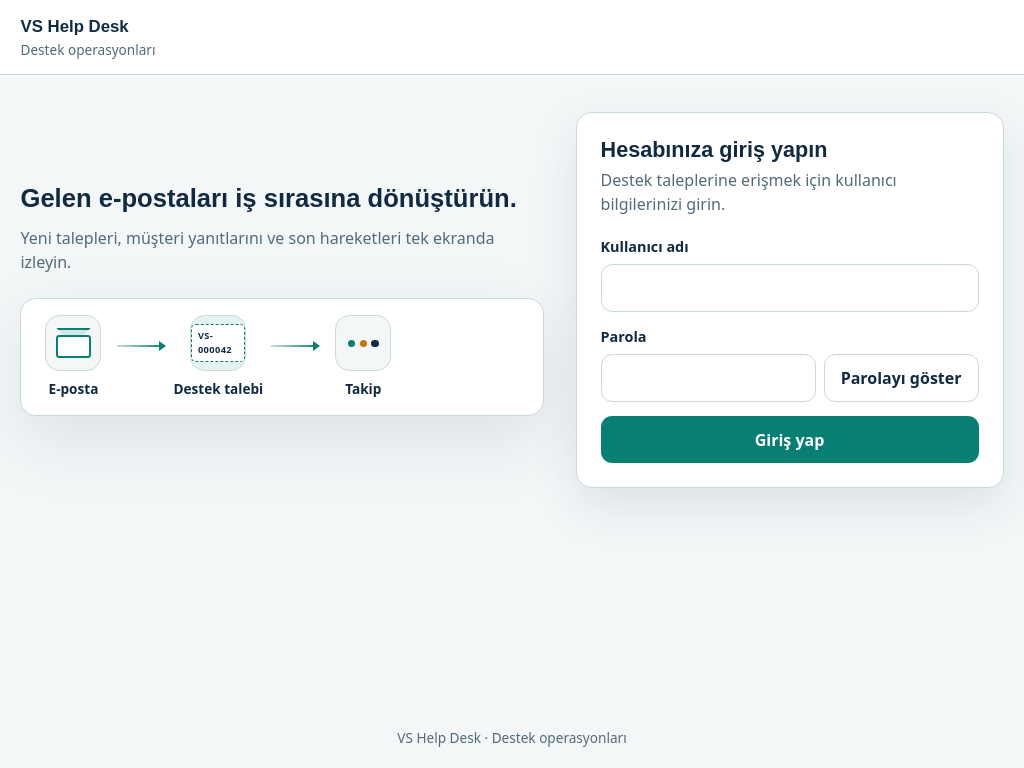
Test: LoginPage › keeps invalid credentials on login and focuses password
In the field labelled "Kullanıcı adı": [790, 288] box [600, 264, 978, 312], type "support"
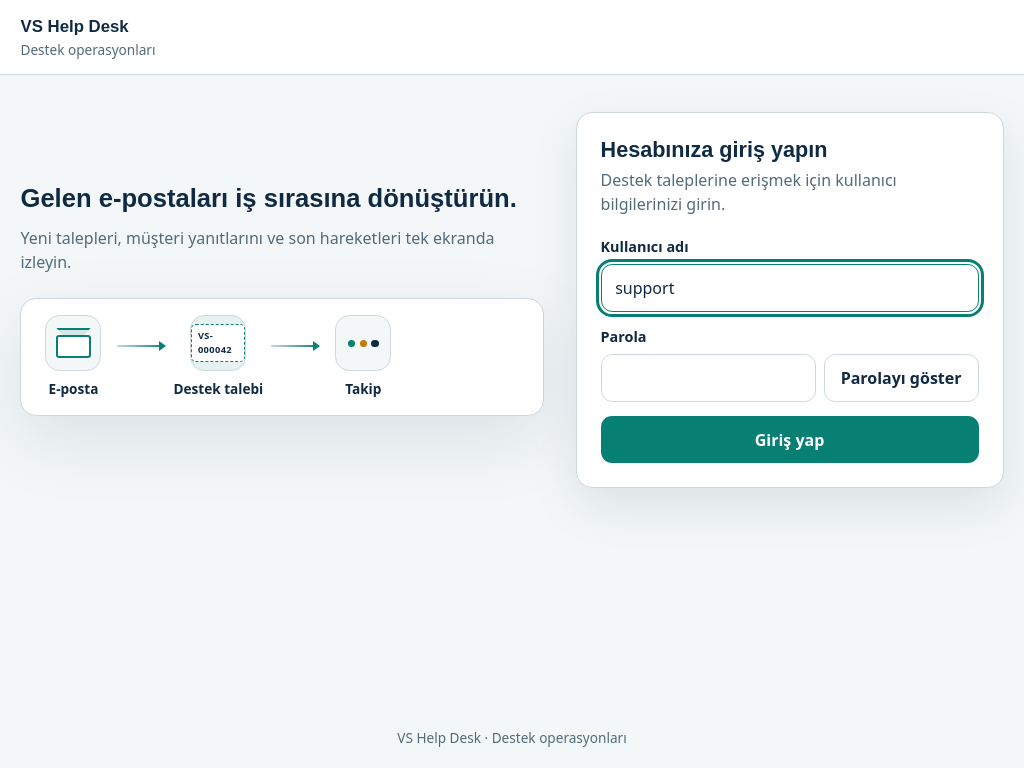
In the password field labelled "Parola": [708, 378] box [600, 354, 816, 402], type "wrong"
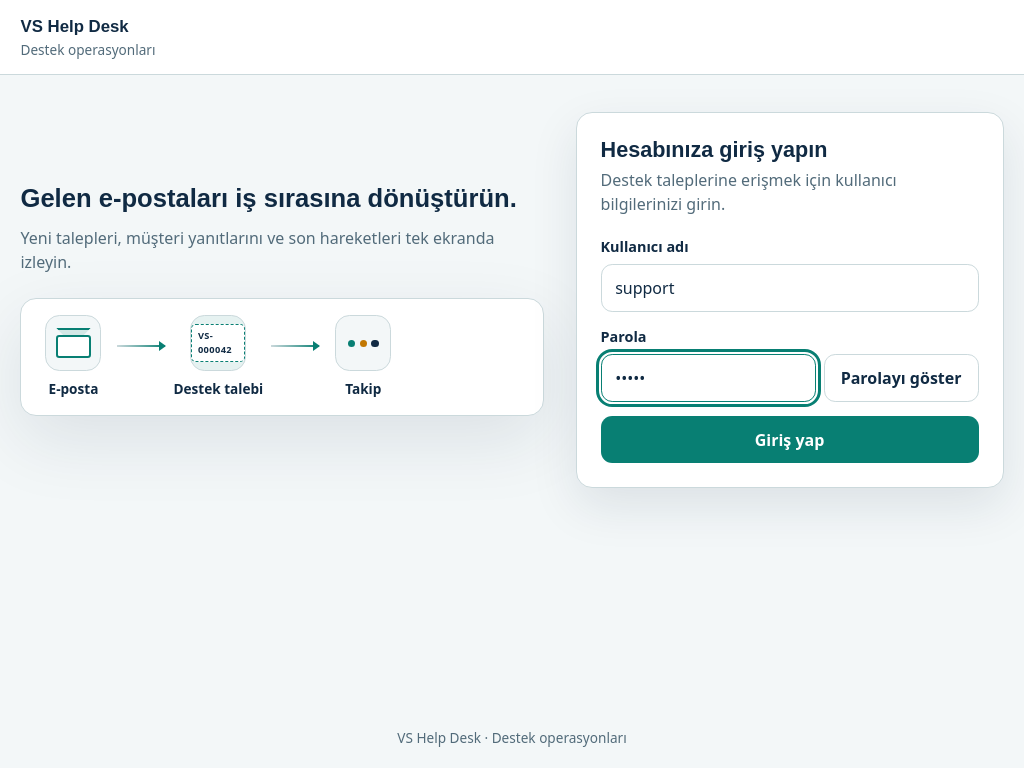
Click the button "Giriş yap": [790, 440] box [600, 416, 978, 463]
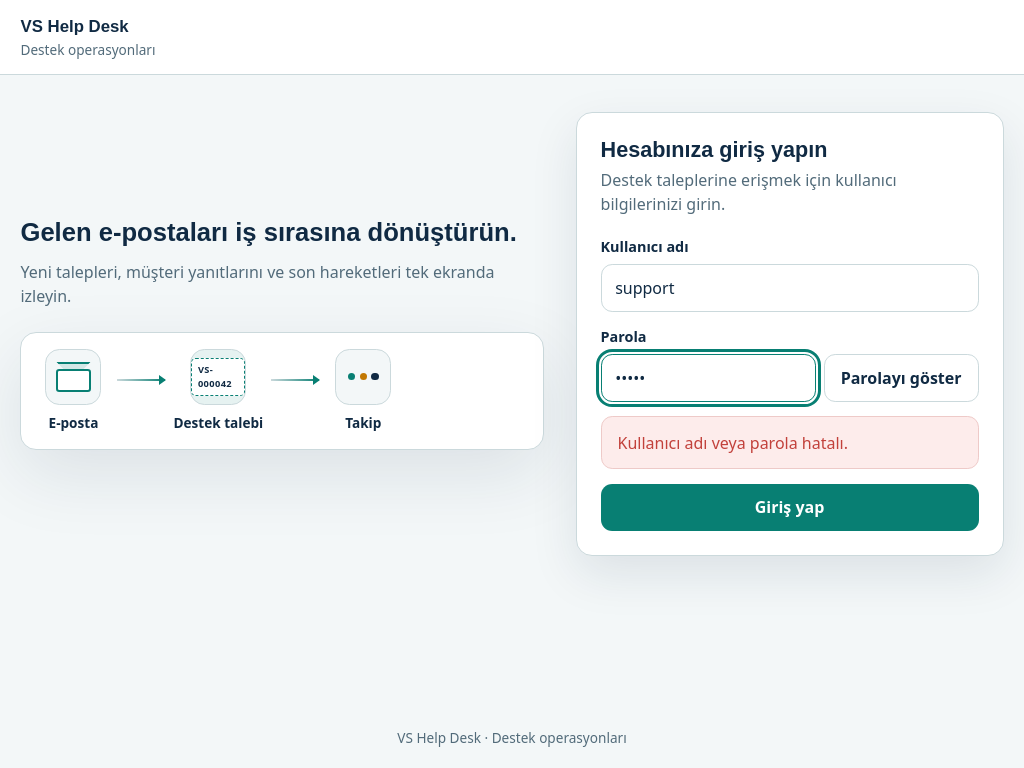
Expected: the message reads "Kullanıcı adı veya parola hatalı.", [618, 432, 848, 454]
